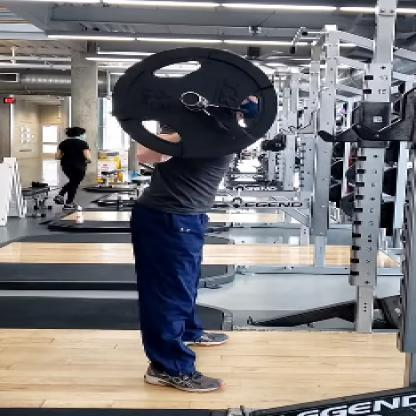barbell: (111, 45, 277, 159)
